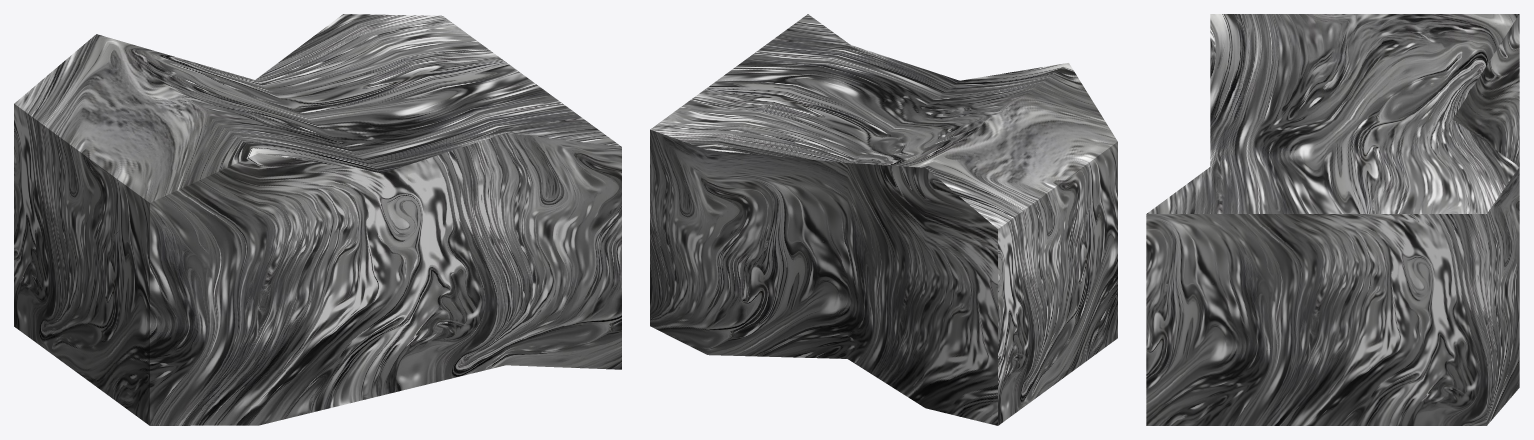
Rendered from calcium metals.fbx.
The picture shows the model from 3 angles, left to right: view 1: azimuth 30°, elevation 25°; view 2: azimuth 150°, elevation 25°; view 3: azimuth 270°, elevation 25°; orthographic projection. The views are drawn at different scales.
Parts seen in each view (by area): view 1: calcium_metals1; view 2: calcium_metals1; view 3: calcium_metals1.
Boxes of the visible parts, x1,y1,x2,y2 form: calcium_metals1: (14, 14, 621, 425); calcium_metals1: (650, 14, 1117, 425); calcium_metals1: (1146, 14, 1519, 425).
Size of the model in its own units: 1.17 by 0.7399 by 0.9653.
1 material, 1 textured.
